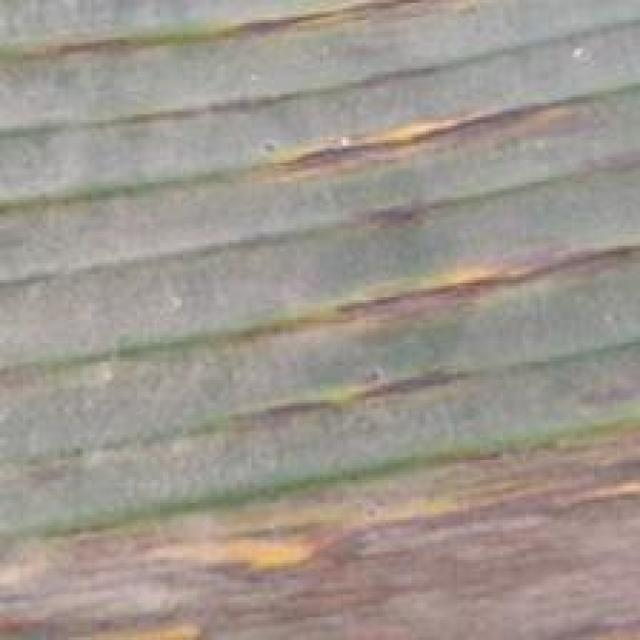Early_leaf_spot: (0, 425, 640, 640), (224, 68, 591, 199), (265, 223, 623, 347), (171, 0, 457, 74), (272, 342, 514, 414), (6, 11, 152, 84)
